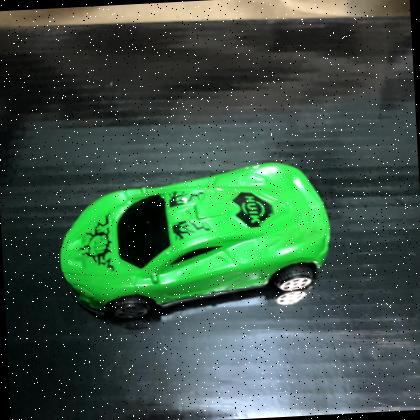Car: (59, 162, 330, 324)
